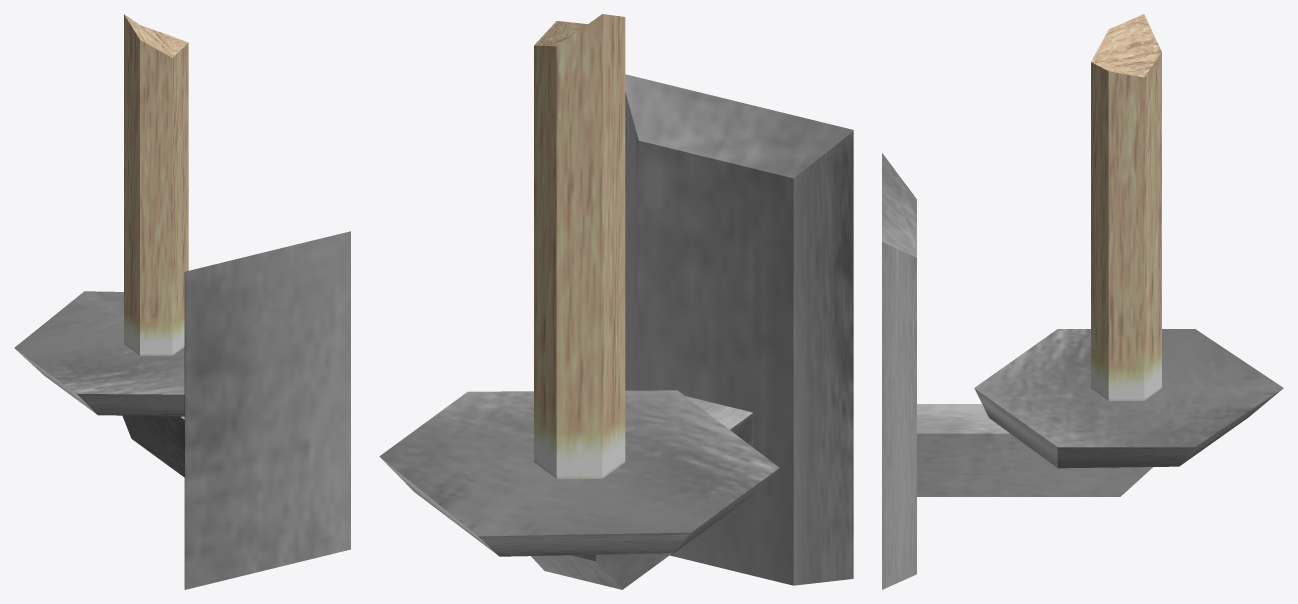
The model's file is wall candle.fbx.
3 renders of one model, left to right at view 1: azimuth 30°, elevation 25°; view 2: azimuth 150°, elevation 25°; view 3: azimuth 270°, elevation 25°, orthographic. The views are drawn at different scales.
Visible parts, largest first — view 1: Cylinder.001; view 2: Cylinder.001; view 3: Cylinder.001.
Boxes of the visible parts, box(x1,y1,x2,y2) form: Cylinder.001: box(14, 14, 350, 589); Cylinder.001: box(379, 14, 853, 589); Cylinder.001: box(882, 14, 1283, 589).
Bounding box in the file's own units: 80.17 × 164 × 115.
